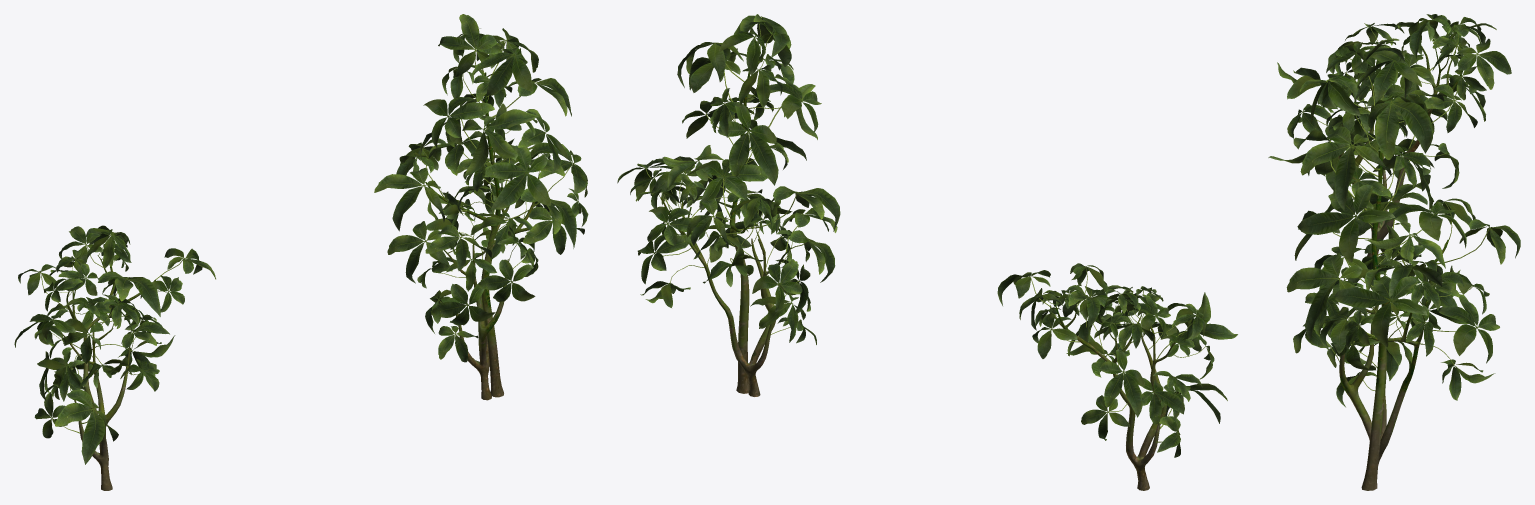
Rendered from pohon_pachira.glb.
The picture shows the model from 3 angles, left to right: view 1: azimuth 30°, elevation 25°; view 2: azimuth 150°, elevation 25°; view 3: azimuth 270°, elevation 25°; orthographic projection. The views are drawn at different scales.
Parts seen in each view (by area): view 1: pachira_aquatica_01_leaves_d, pachira_aquatica_01_leaves_c, pachira_aquatica_01_bark_d, pachira_aquatica_01_bark_c; view 2: pachira_aquatica_01_leaves_d, pachira_aquatica_01_leaves_c, pachira_aquatica_01_bark_d, pachira_aquatica_01_bark_c; view 3: pachira_aquatica_01_leaves_d, pachira_aquatica_01_leaves_c, pachira_aquatica_01_bark_d, pachira_aquatica_01_bark_c.
Boxes of the visible parts, x1=… form: pachira_aquatica_01_leaves_d: x1=374, y1=14, x2=588, y2=362; pachira_aquatica_01_leaves_c: x1=14, y1=225, x2=215, y2=464; pachira_aquatica_01_bark_d: x1=425, y1=72, x2=539, y2=400; pachira_aquatica_01_bark_c: x1=60, y1=255, x2=155, y2=490; pachira_aquatica_01_leaves_d: x1=617, y1=14, x2=840, y2=344; pachira_aquatica_01_leaves_c: x1=997, y1=263, x2=1237, y2=457; pachira_aquatica_01_bark_d: x1=661, y1=72, x2=791, y2=396; pachira_aquatica_01_bark_c: x1=1050, y1=304, x2=1182, y2=490; pachira_aquatica_01_leaves_d: x1=1268, y1=38, x2=1520, y2=407; pachira_aquatica_01_leaves_c: x1=1277, y1=14, x2=1511, y2=190; pachira_aquatica_01_bark_d: x1=1339, y1=117, x2=1448, y2=490; pachira_aquatica_01_bark_c: x1=1338, y1=37, x2=1462, y2=256.
Size of the model in its own units: 2.94 by 1.9 by 0.997.
2 materials, 2 textured.
